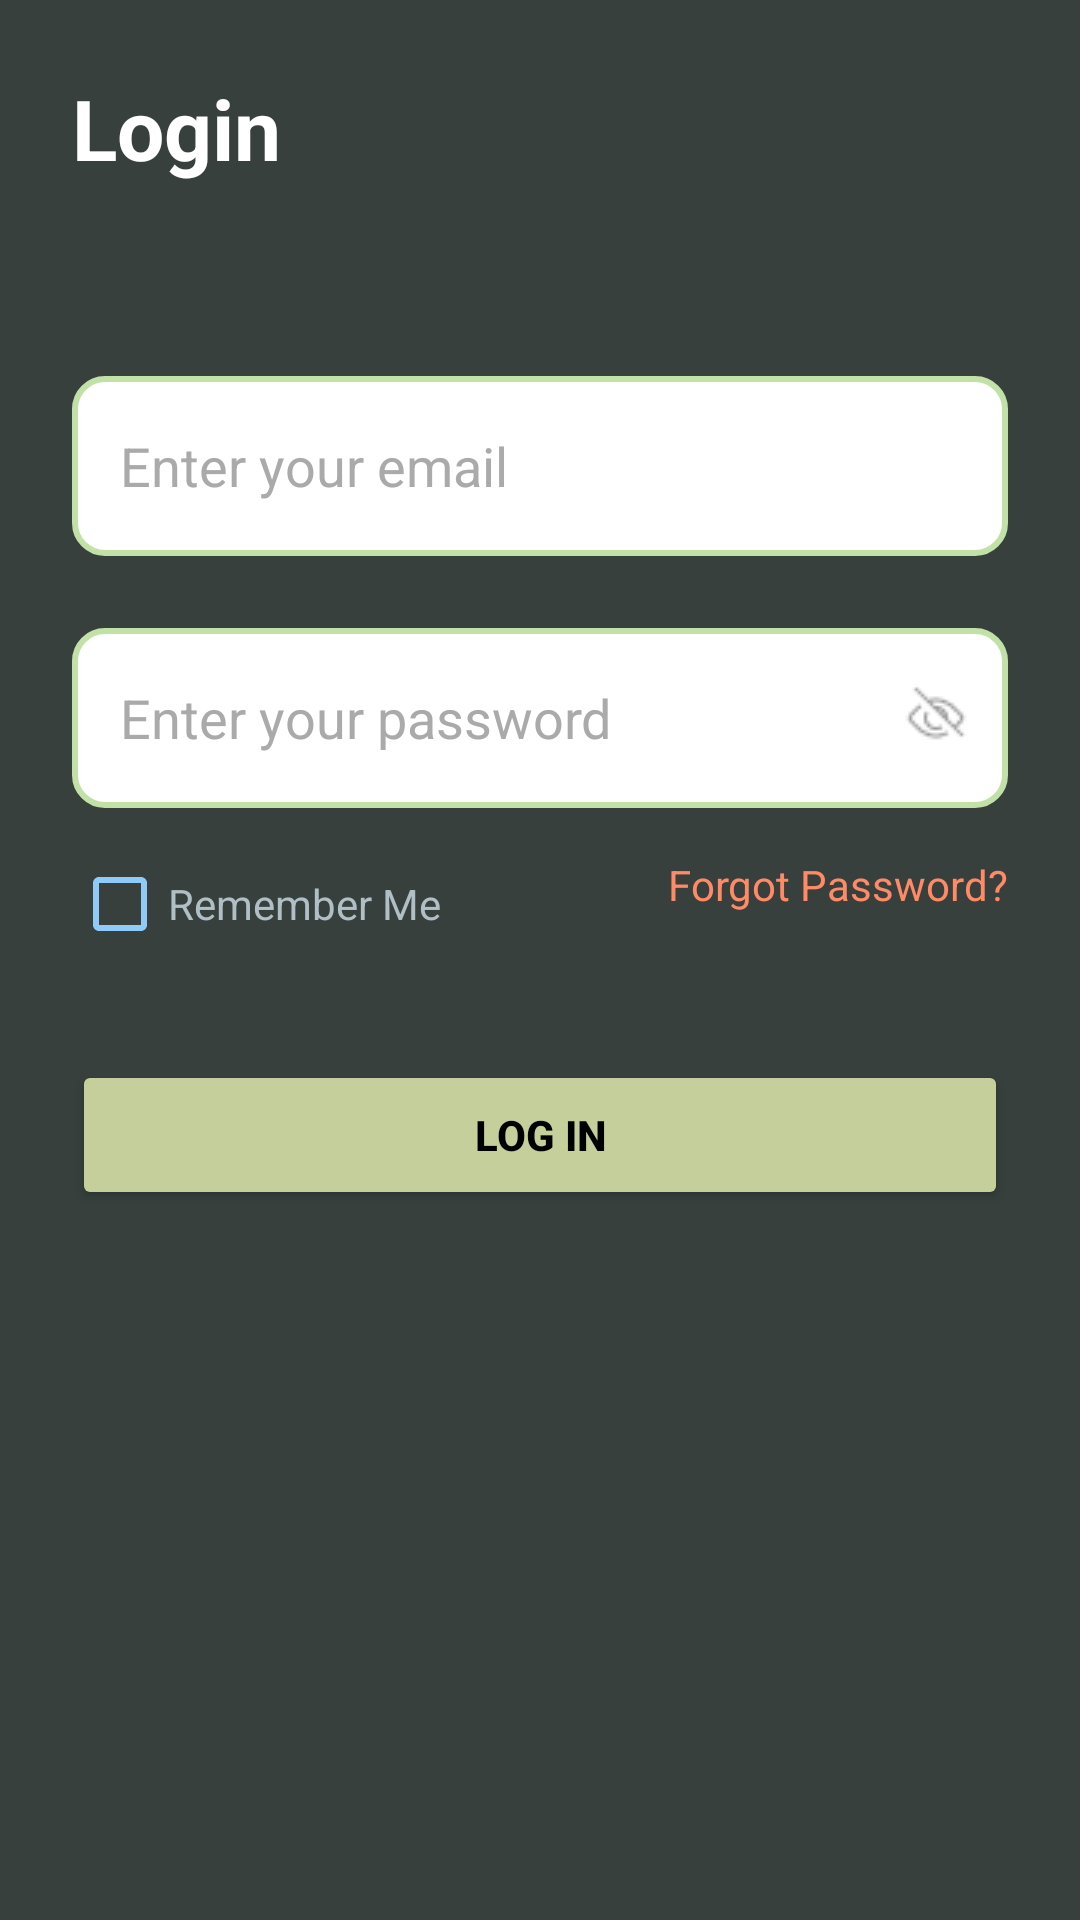

Point at icon controls on the screen. Image size 1080w x 1920h, points as (x=x, y=y).
eye closed: (x=936, y=713)
